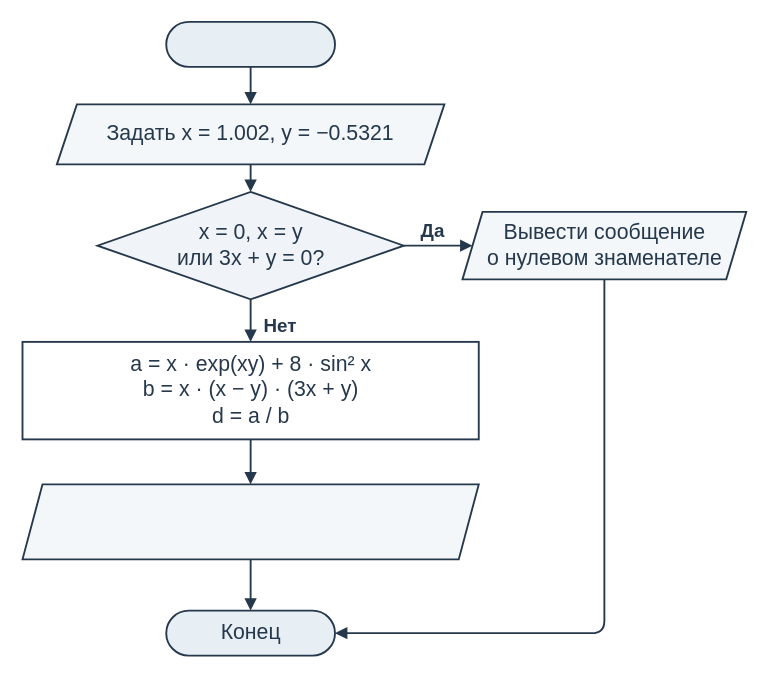
Some shapes in this 769 by 679 pixel diagram are drawn without their labels. Here are the shapes that lost their labels. From the top down, the centre of each, then its label:
At (250,43): "Начало".
At (250,521): "Вывести round(d, 4) и целую часть int(d)".
